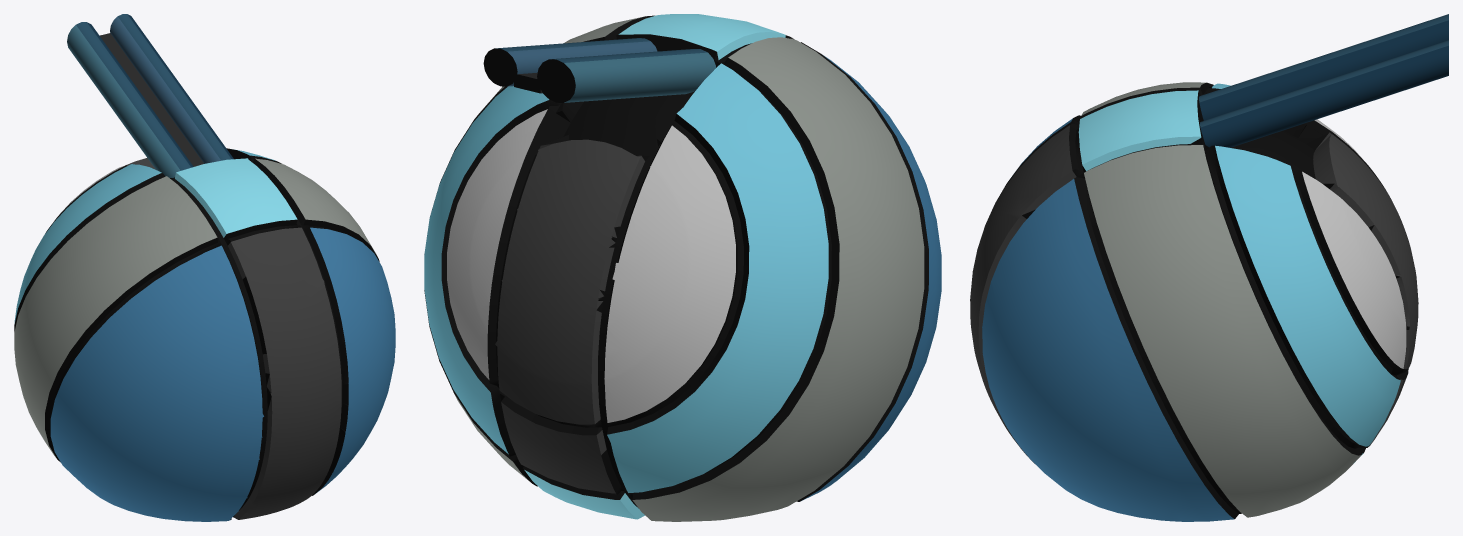
Rendered from ball_mast_ball.glb.
The picture shows the model from 3 angles, left to right: view 1: azimuth 30°, elevation 25°; view 2: azimuth 150°, elevation 25°; view 3: azimuth 270°, elevation 25°; orthographic projection. The views are drawn at different scales.
Parts seen in each view (by area): view 1: ball.001, rod0.001, rod1.001, web.001; view 2: ball.001, rod0.001, rod1.001; view 3: ball.001, rod1.001, rod0.001.
Part boxes in pixels (bbox=[...]): ball.001: bbox=[14, 148, 395, 521]; rod0.001: bbox=[67, 22, 193, 177]; rod1.001: bbox=[110, 14, 233, 163]; web.001: bbox=[100, 33, 203, 166]; ball.001: bbox=[424, 14, 941, 521]; rod0.001: bbox=[537, 49, 715, 102]; rod1.001: bbox=[483, 38, 657, 86]; ball.001: bbox=[970, 82, 1418, 521]; rod1.001: bbox=[1200, 40, 1448, 147]; rod0.001: bbox=[1199, 14, 1448, 120].
Bounding box in the file's own units: 18.49 × 19.83 × 19.74.
